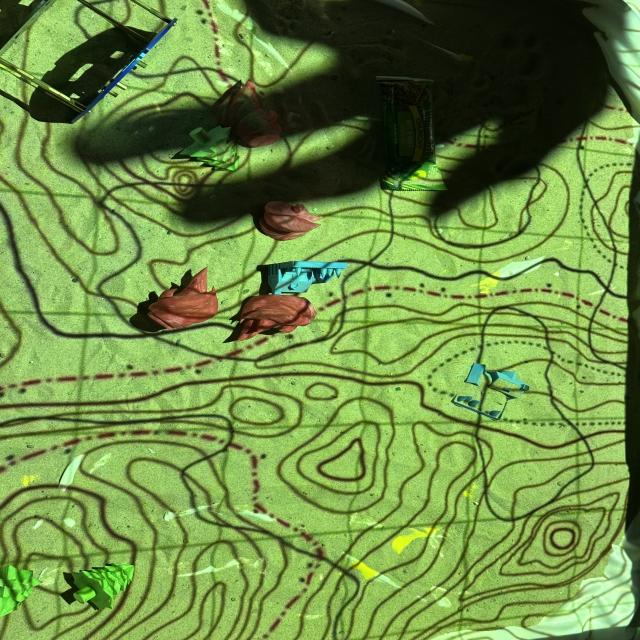fire: (144, 266, 218, 331), (222, 79, 283, 149), (234, 294, 316, 342), (252, 201, 323, 239)
house: (450, 361, 530, 421), (256, 260, 348, 295)
tree: (67, 560, 136, 610), (177, 125, 240, 172), (0, 563, 42, 615)
